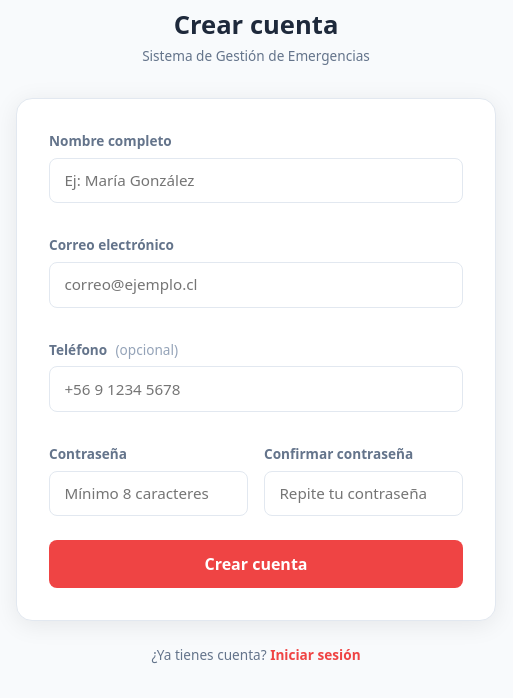
Registro — validaciones › muestra error si la contraseña tiene menos de 8 caracteres
In the field labelled "Nombre completo": coordinates (256, 180) [49,158,463,203], type "Mati"
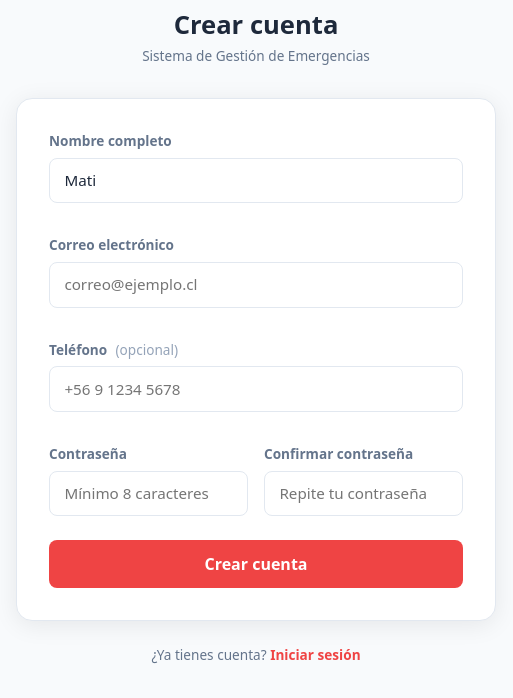
In the field labelled "Correo electrónico": coordinates (256, 285) [49,262,463,308], type "matidroid1@gmail.com"
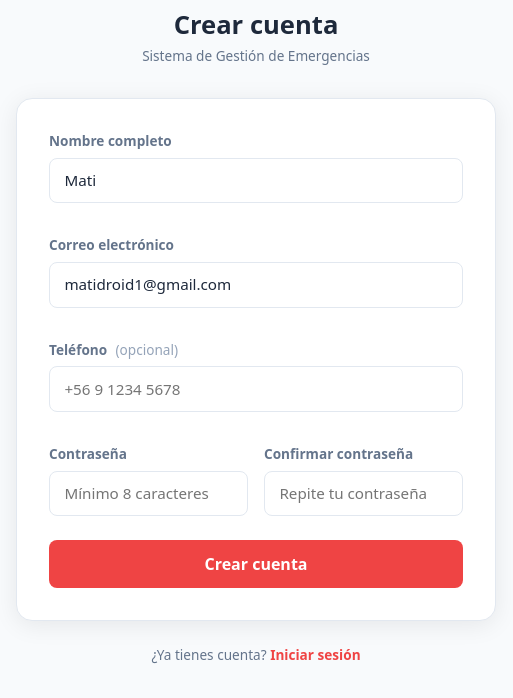
In the password field labelled "Contraseña": coordinates (148, 494) [49,471,248,516], type "corta"
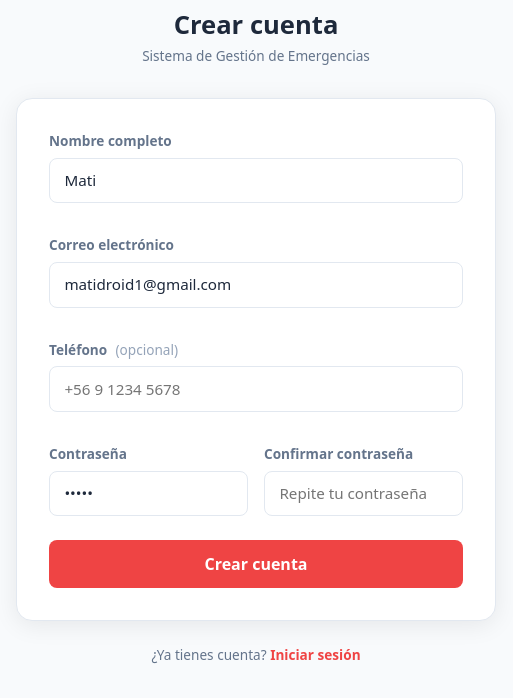
Click the button "Crear cuenta": coordinates (256, 564) [49,540,463,588]
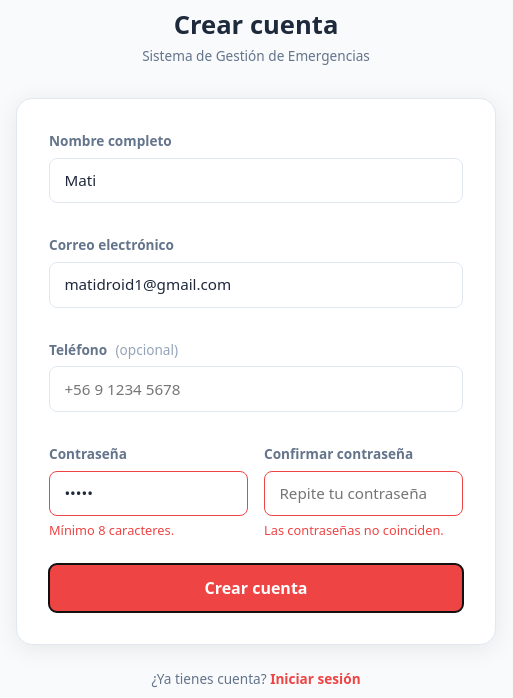
Result: the text "Mínimo 8 caracteres." is shown at [49,521,174,539]
